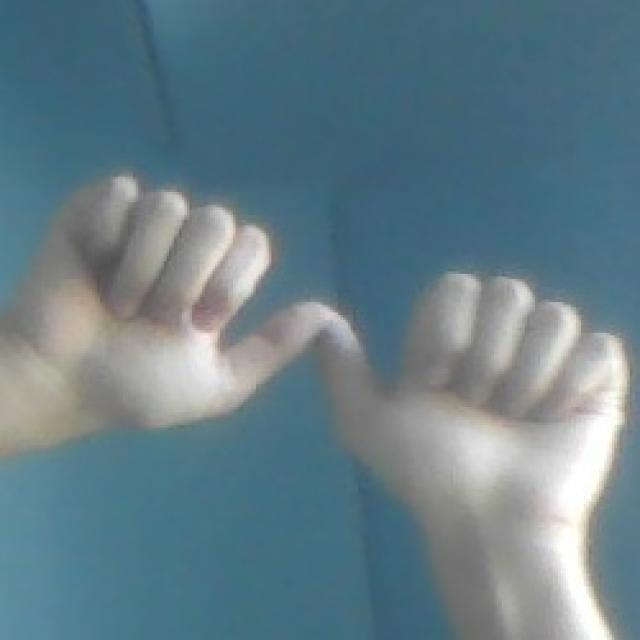Alphabet-A: (38, 160, 638, 530)
